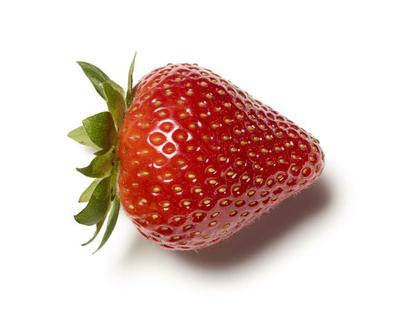strawberry: (0, 0, 400, 314)
